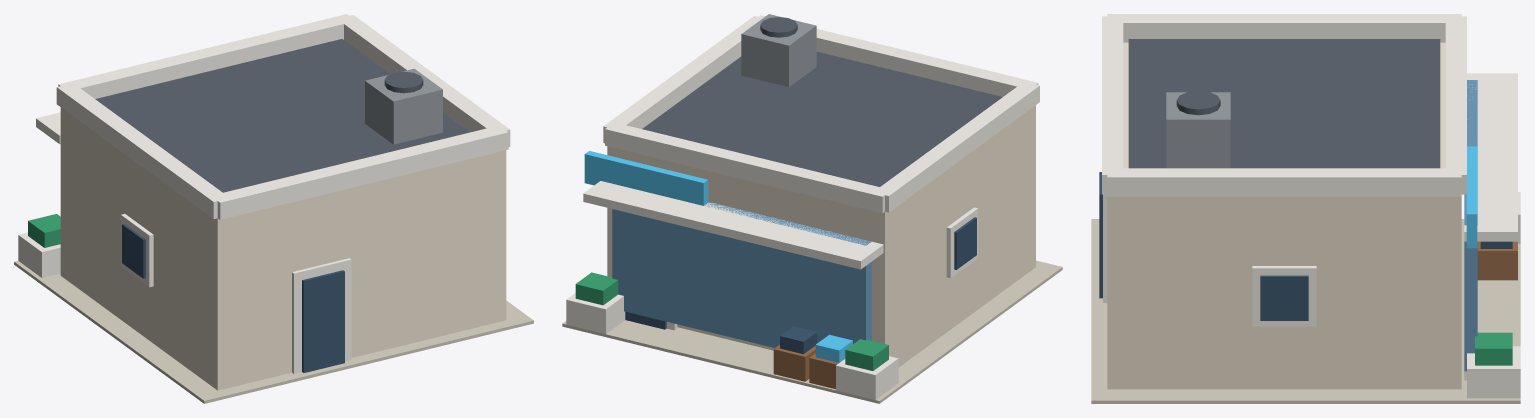
3 renders of one model, left to right at view 1: azimuth 30°, elevation 25°; view 2: azimuth 150°, elevation 25°; view 3: azimuth 270°, elevation 25°, orthographic. The views are drawn at different scales.
Visible parts, largest first — view 1: shop, roof, parapet (×4), ground, ac_unit_body, door, door_frame, planter, window_glass, planter_hedge, window_frame, ac_unit_fan (+1 smaller); view 2: shop, roof, storefront, parapet (×4), ground, canopy, ac_unit_body, planter (×2), sign, planter_hedge (×2), crate (×2), produce (×2) (+3 smaller); view 3: shop, roof, parapet (×4), ground, canopy, ac_unit_body, storefront, window_glass, planter, window_frame, crate, planter_hedge (+4 smaller).
Part boxes in pixels (box(x1,y1,x2,y2)): shop: box(60, 107, 506, 390); roof: box(95, 39, 469, 192); parapet (×4): box(56, 14, 510, 219); ground: box(14, 261, 533, 403); ac_unit_body: box(365, 68, 442, 144); door: box(302, 270, 344, 372); door_frame: box(292, 258, 351, 373); planter: box(18, 232, 60, 277); window_glass: box(122, 224, 145, 278); planter_hedge: box(28, 214, 60, 247); window_frame: box(121, 214, 153, 287); ac_unit_fan: box(384, 71, 423, 93); shop: box(607, 105, 1035, 367); roof: box(642, 51, 1002, 186); storefront: box(612, 202, 871, 347); parapet (×4): box(603, 15, 1039, 213); ground: box(562, 260, 1062, 403); canopy: box(583, 181, 883, 269); ac_unit_body: box(741, 14, 816, 86); planter (×2): box(566, 293, 898, 399); sign: box(584, 151, 708, 205); planter_hedge (×2): box(575, 272, 888, 370); crate (×2): box(773, 345, 838, 389); produce (×2): box(780, 326, 852, 362); shop: box(1107, 42, 1461, 389); roof: box(1128, 39, 1440, 168); parapet (×4): box(1102, 14, 1466, 196); ground: box(1091, 219, 1520, 403); canopy: box(1464, 73, 1517, 241); ac_unit_body: box(1166, 92, 1230, 168); storefront: box(1464, 80, 1477, 371); window_glass: box(1260, 275, 1308, 320); planter: box(1467, 346, 1520, 398); window_frame: box(1252, 266, 1316, 326); crate: box(1477, 241, 1517, 280); planter_hedge: box(1475, 332, 1512, 365).
Bounding box in the file's own units: 8 × 5.31 × 8.
